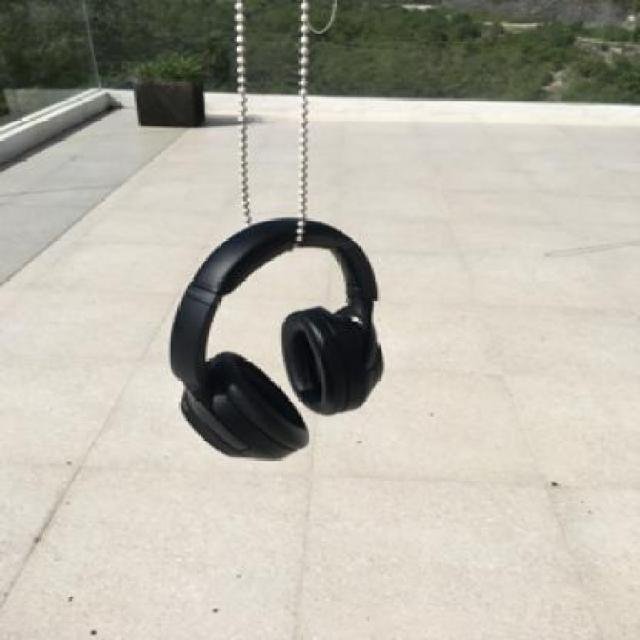earphone: (182, 138, 372, 482)
